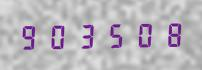eight: (158, 19, 185, 48)
five: (102, 19, 129, 49)
nine: (17, 21, 44, 50)
three: (74, 20, 101, 49)
zero: (45, 20, 72, 50), (130, 19, 157, 49)
